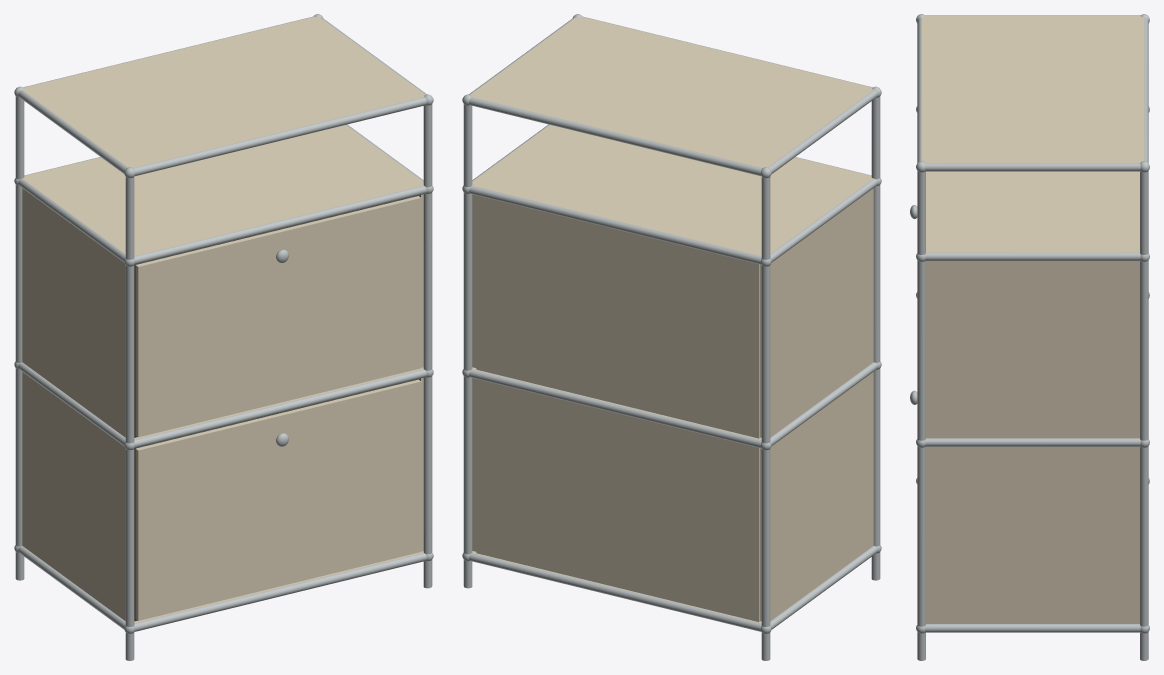
Rendered from layer-600-915-ivory.glb.
3 views of the same model, side by side, from view 1: azimuth 30°, elevation 25°; view 2: azimuth 150°, elevation 25°; view 3: azimuth 270°, elevation 25° (orthographic).
Visible parts, largest first — view 1: drop down door (×2), horizontal panel (×4), left side, 15mm stainless tube (×11), dark door reveal (×2), right side; view 2: back, horizontal panel (×2), left side, 15mm stainless tube (×11), right side; view 3: right side, horizontal panel (×2), 15mm stainless tube (×8).
Part boxes in pixels (bbox=[...]): drop down door (×2): bbox=[135, 196, 421, 620]; horizontal panel (×4): bbox=[22, 16, 425, 623]; left side: bbox=[22, 188, 125, 620]; 15mm stainless tube (×11): bbox=[15, 90, 432, 660]; dark door reveal (×2): bbox=[134, 195, 420, 621]; right side: bbox=[421, 194, 423, 551]; back: bbox=[476, 195, 760, 621]; horizontal panel (×2): bbox=[470, 16, 873, 256]; left side: bbox=[760, 188, 873, 621]; 15mm stainless tube (×11): bbox=[463, 90, 880, 660]; right side: bbox=[472, 194, 476, 551]; right side: bbox=[926, 261, 1139, 623]; horizontal panel (×2): bbox=[921, 16, 1144, 252]; 15mm stainless tube (×8): bbox=[917, 17, 1148, 660].
Bounding box in the file's own units: 0.6 × 0.915 × 0.4.
